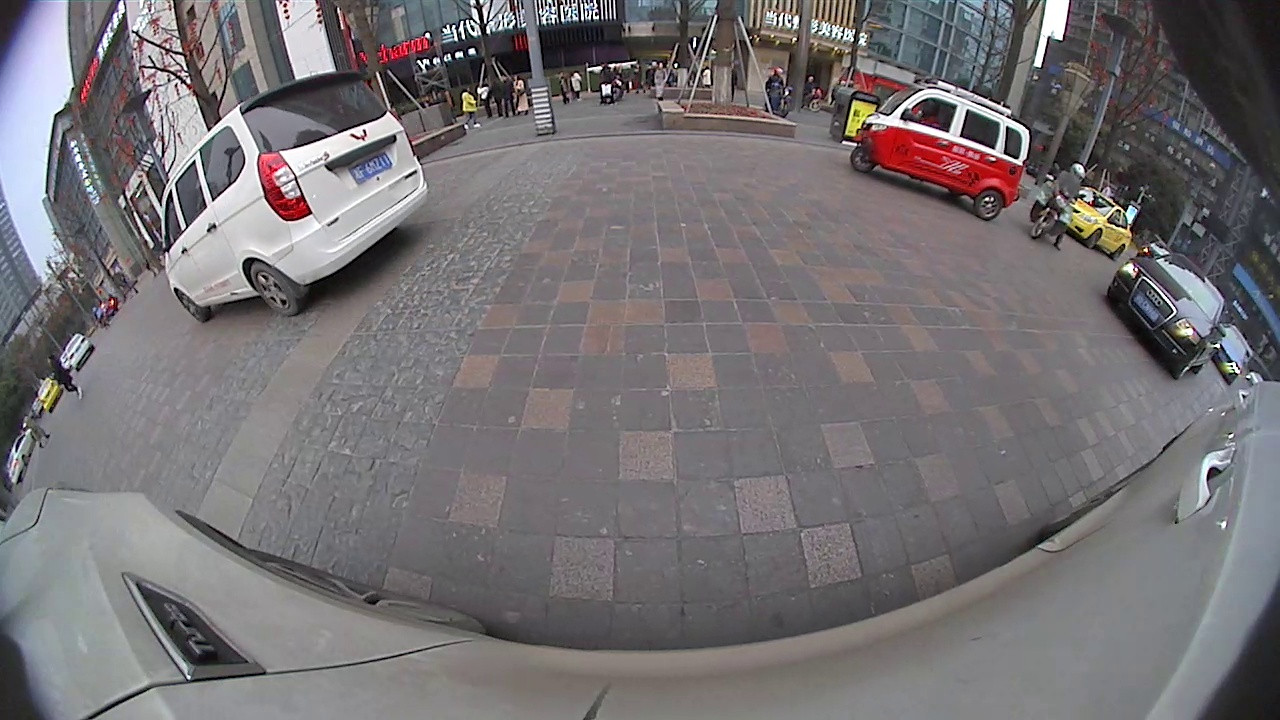car: (158, 66, 433, 325), (1103, 250, 1227, 381), (1064, 183, 1133, 263), (63, 331, 98, 373)
front: (175, 287, 210, 325), (848, 145, 880, 176)
person: (48, 354, 64, 404)
rear: (247, 260, 303, 322), (971, 190, 1006, 220)
rider: (849, 75, 1035, 223), (1024, 162, 1088, 243)
